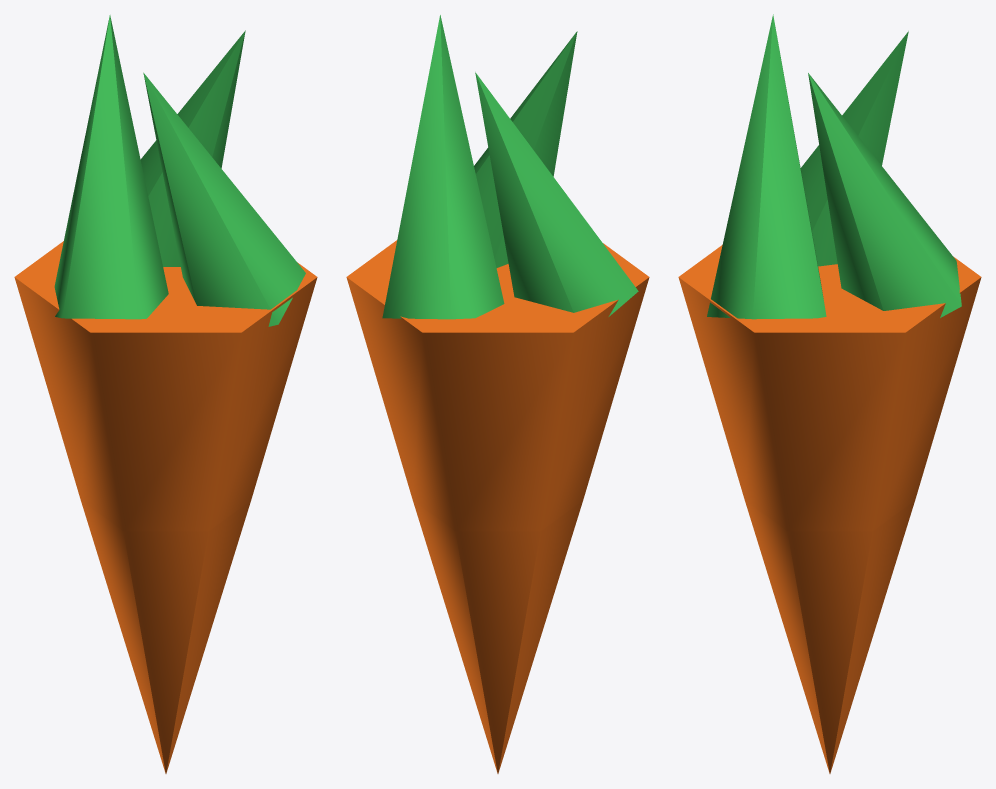
Rendered from carrot.glb.
3 renders of one model, left to right at view 1: azimuth 30°, elevation 25°; view 2: azimuth 150°, elevation 25°; view 3: azimuth 270°, elevation 25°, orthographic.
Visible parts, largest first — view 1: carrot; view 2: carrot; view 3: carrot.
Boxes of the visible parts, x1,y1,x2,y2 form: carrot: (14,15,317,773); carrot: (346,15,649,773); carrot: (678,14,981,773).
Size of the model in its own units: 0.2876 by 0.8575 by 0.32.
